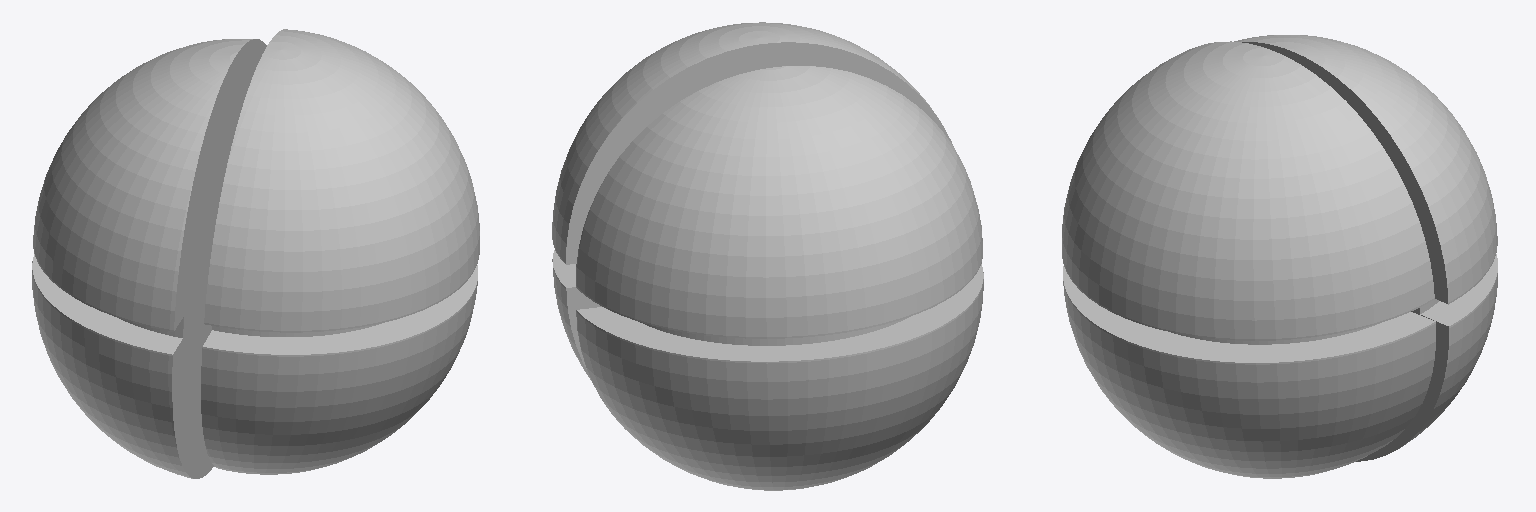
The model's file is Drone166_000003.obj.
3 views of the same model, side by side, from view 1: azimuth 30°, elevation 25°; view 2: azimuth 150°, elevation 25°; view 3: azimuth 270°, elevation 25° (orthographic).
Parts seen in each view (by area): view 1: Sphere.001_Sphere.005, Sphere.000_Sphere.004; view 2: Sphere.000_Sphere.004, Sphere.001_Sphere.005; view 3: Sphere.001_Sphere.005, Sphere.000_Sphere.004.
Boxes of the visible parts, box(x1,y1,x2,y2) form: Sphere.001_Sphere.005: box(201, 29, 479, 474); Sphere.000_Sphere.004: box(32, 39, 266, 478); Sphere.000_Sphere.004: box(576, 66, 983, 490); Sphere.001_Sphere.005: box(552, 22, 953, 380); Sphere.001_Sphere.005: box(1062, 41, 1435, 478); Sphere.000_Sphere.004: box(1234, 35, 1497, 461).
Size of the model in its own units: 2.11 by 2.18 by 2.08.